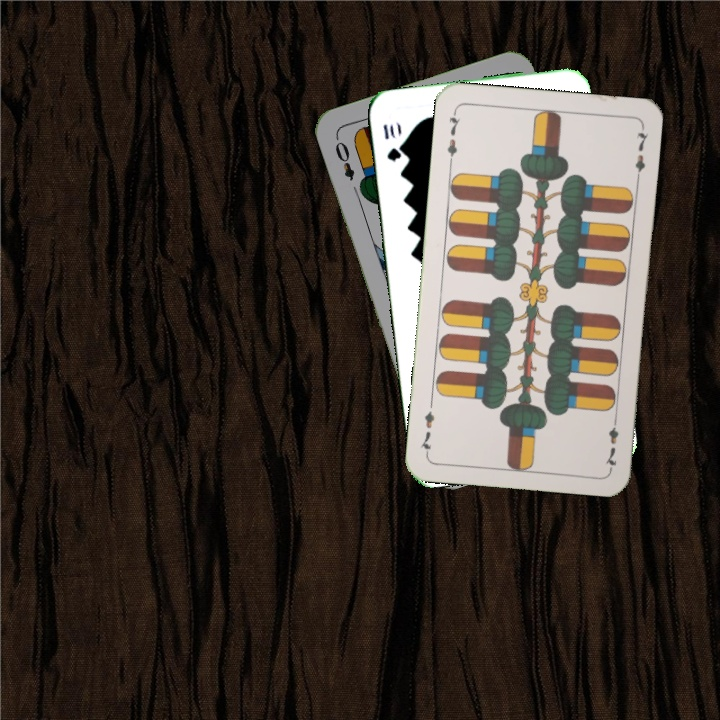E7: (443, 107, 463, 166), (601, 412, 621, 471)
EO: (331, 133, 357, 183)
G10: (379, 120, 404, 164)
